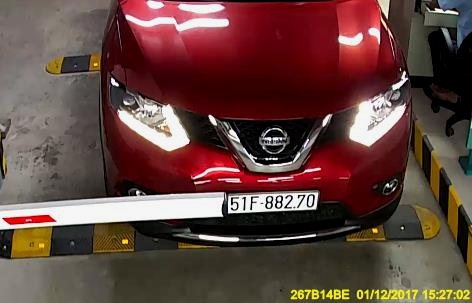plate: (225, 190, 320, 215)
